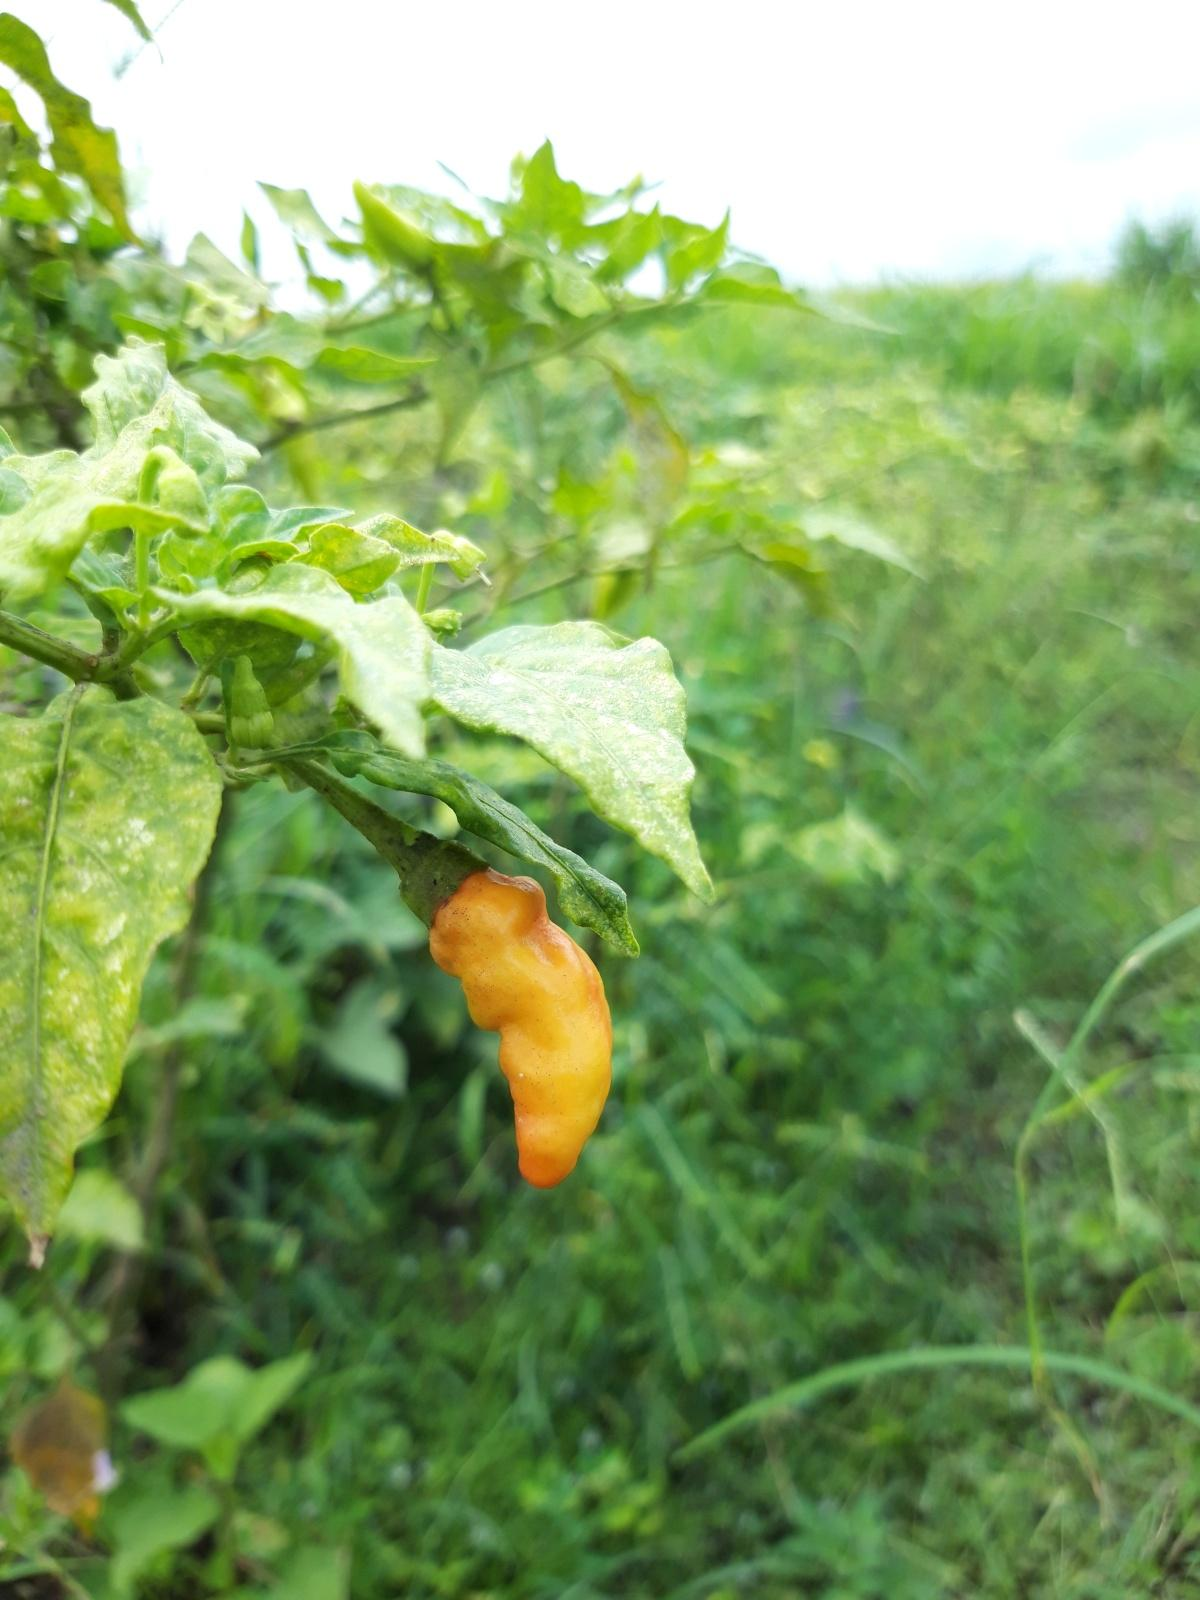cabai_normal: (397, 839, 615, 1188)
